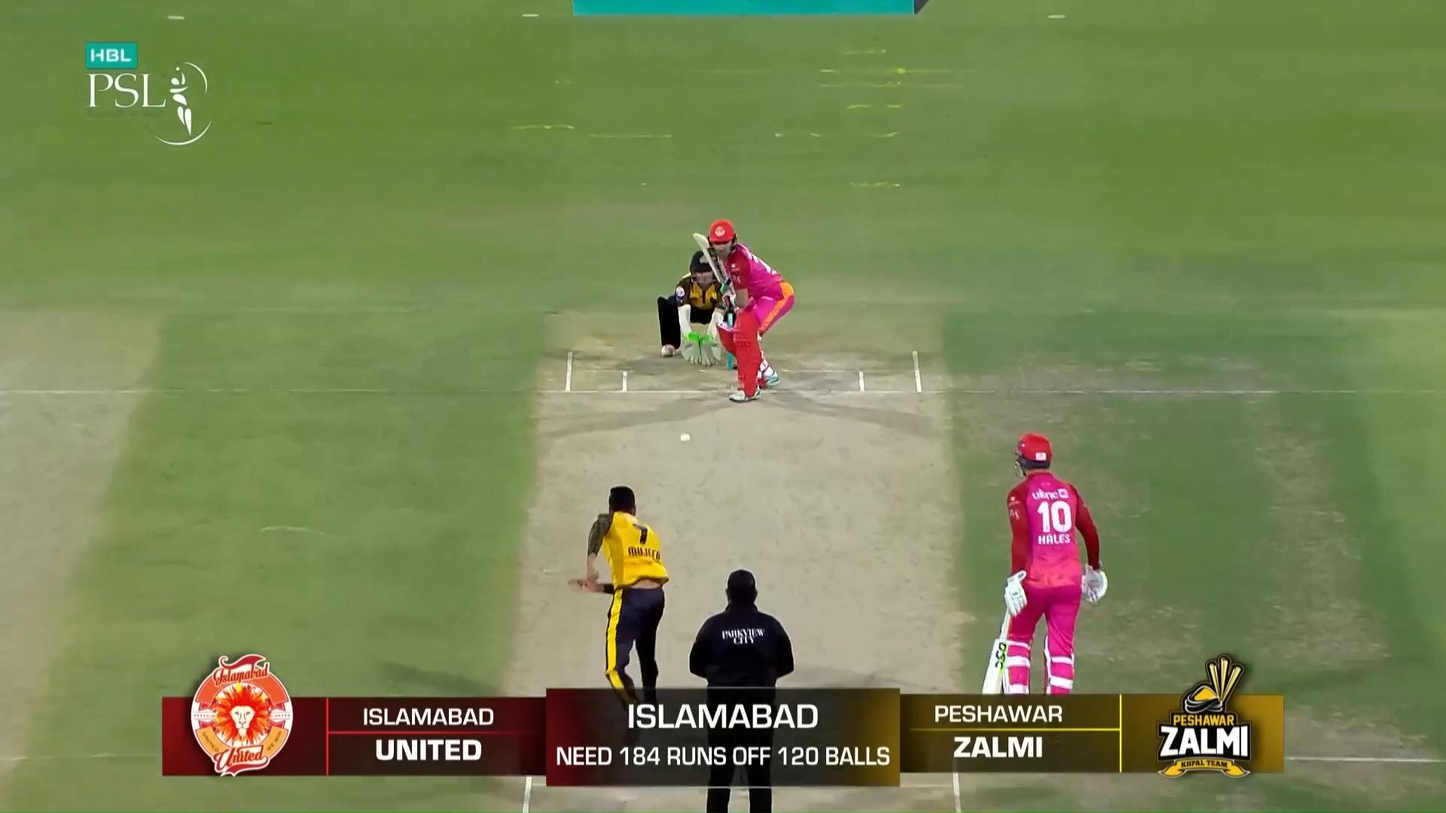batsman: (693, 218, 795, 404)
